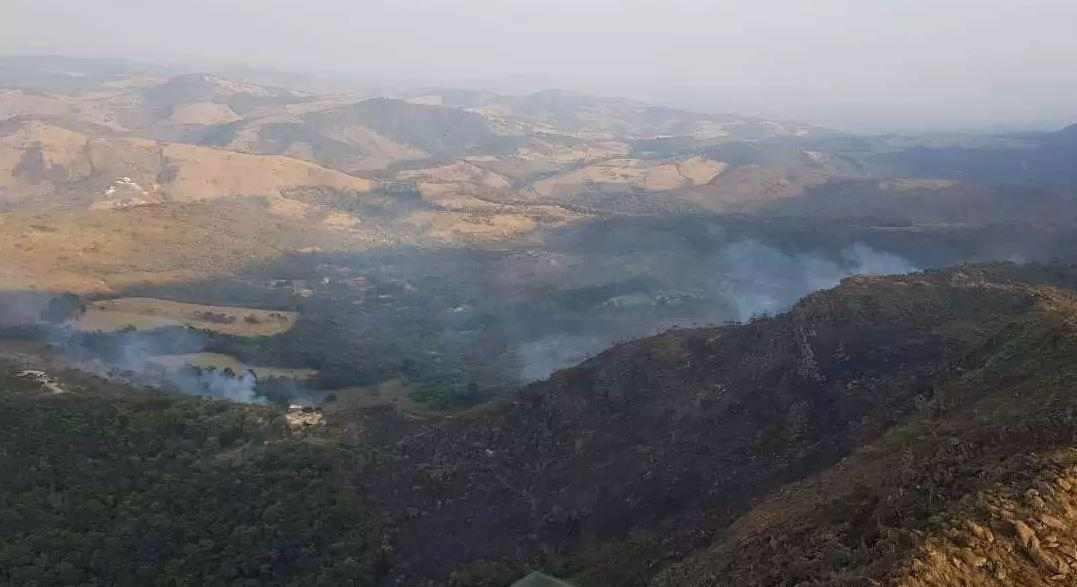smoke: (717, 249, 796, 304)
